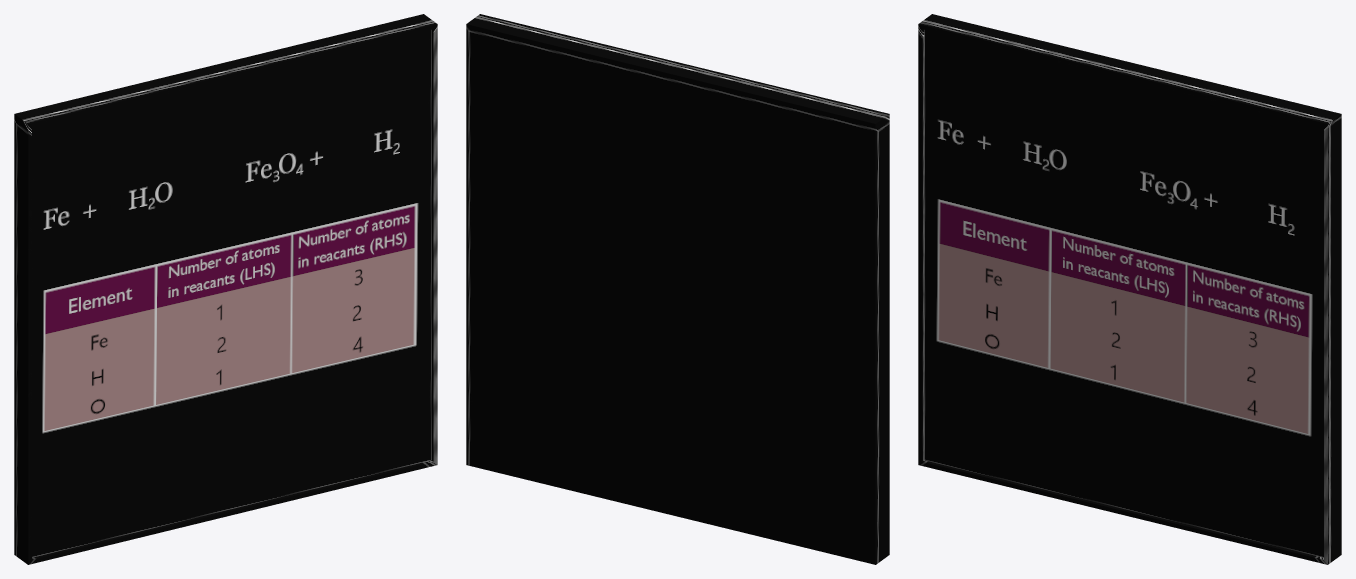
File: fe_board.fbx
The picture shows the model from 3 angles, left to right: view 1: azimuth 30°, elevation 25°; view 2: azimuth 150°, elevation 25°; view 3: azimuth 330°, elevation 25°; orthographic projection.
Visible parts, largest first — view 1: board; view 2: board; view 3: board.
Part boxes in pixels (x1,y1,x2,y2): board: (14,14,437,564); board: (466,14,889,564); board: (918,14,1341,564).
Bounding box in the file's own units: 331 × 340 × 19.33.
1 material, 1 textured.
